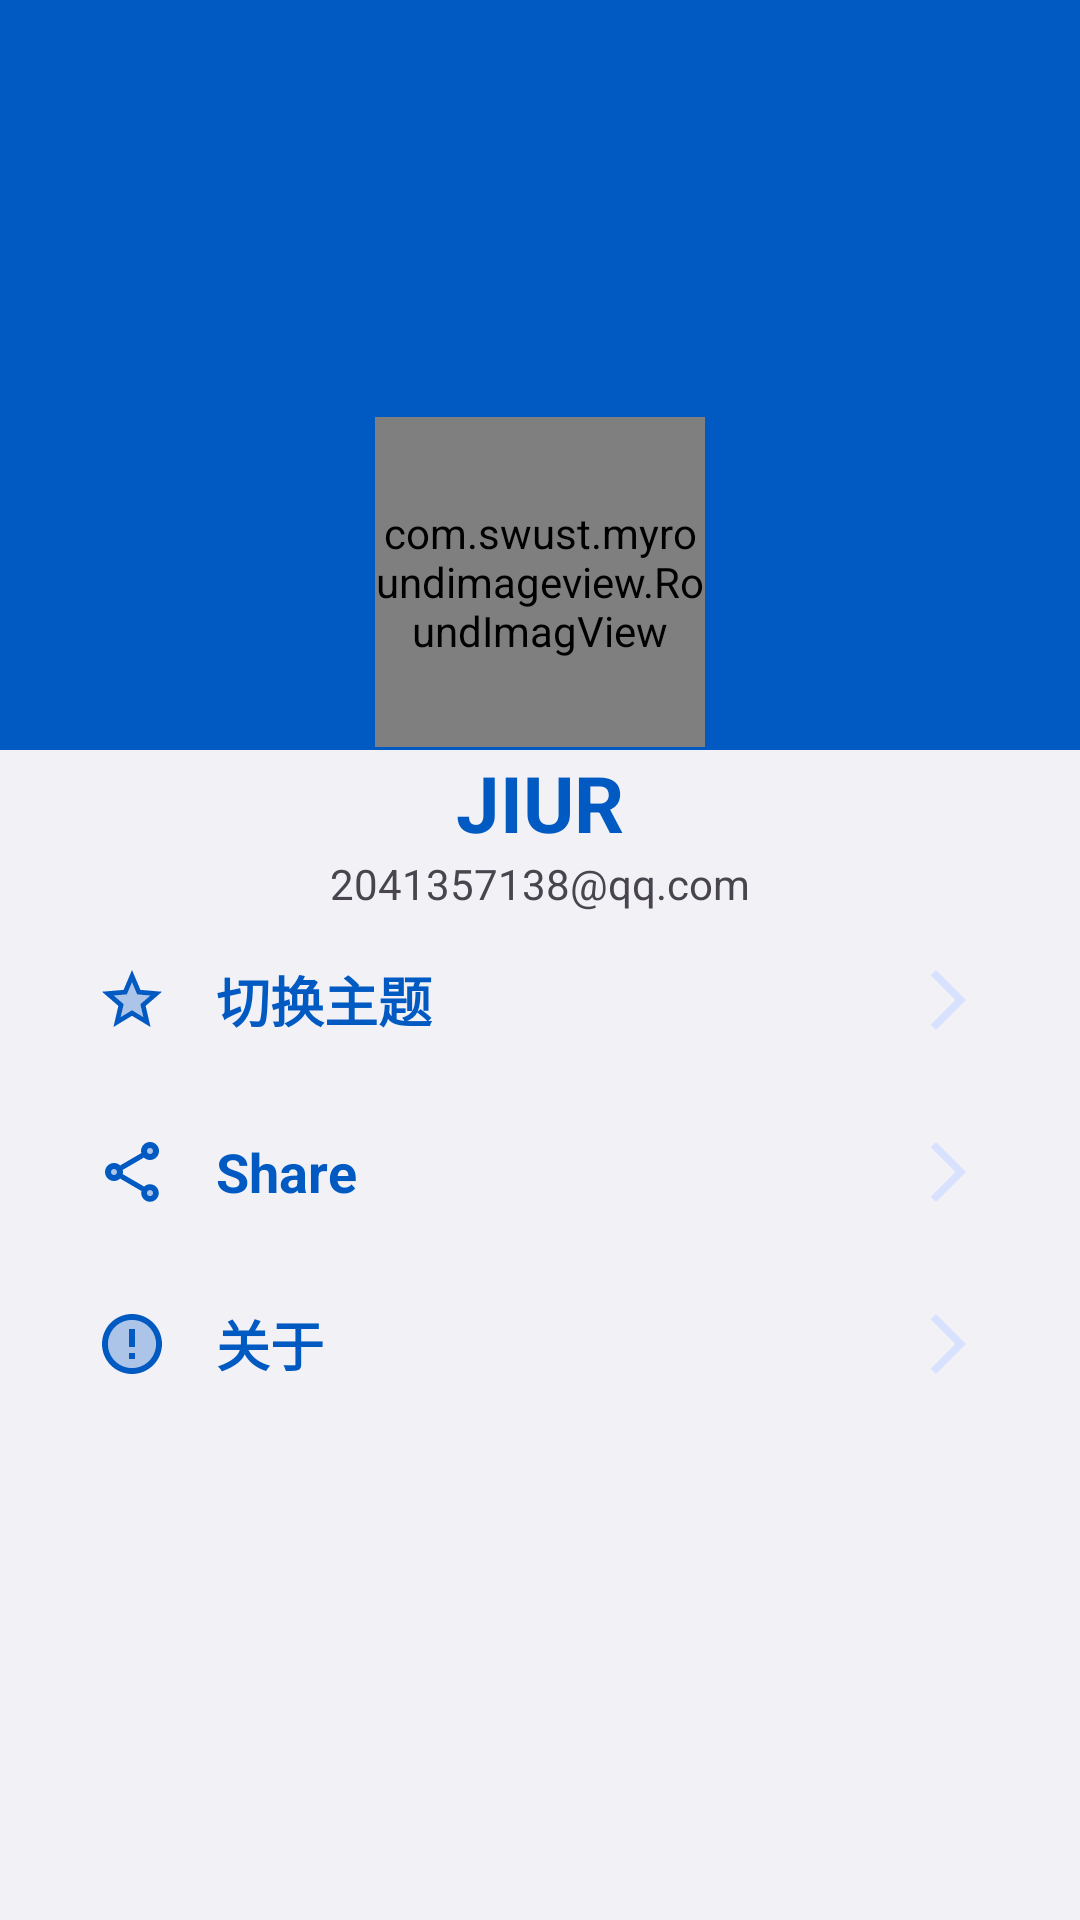

Where to tap for icons on this 1080px×1920px app screen, as point (x, y):
arrow: point (948, 1000), point (948, 1172), point (948, 1344)
error: point (132, 1344)
star: point (132, 998)
